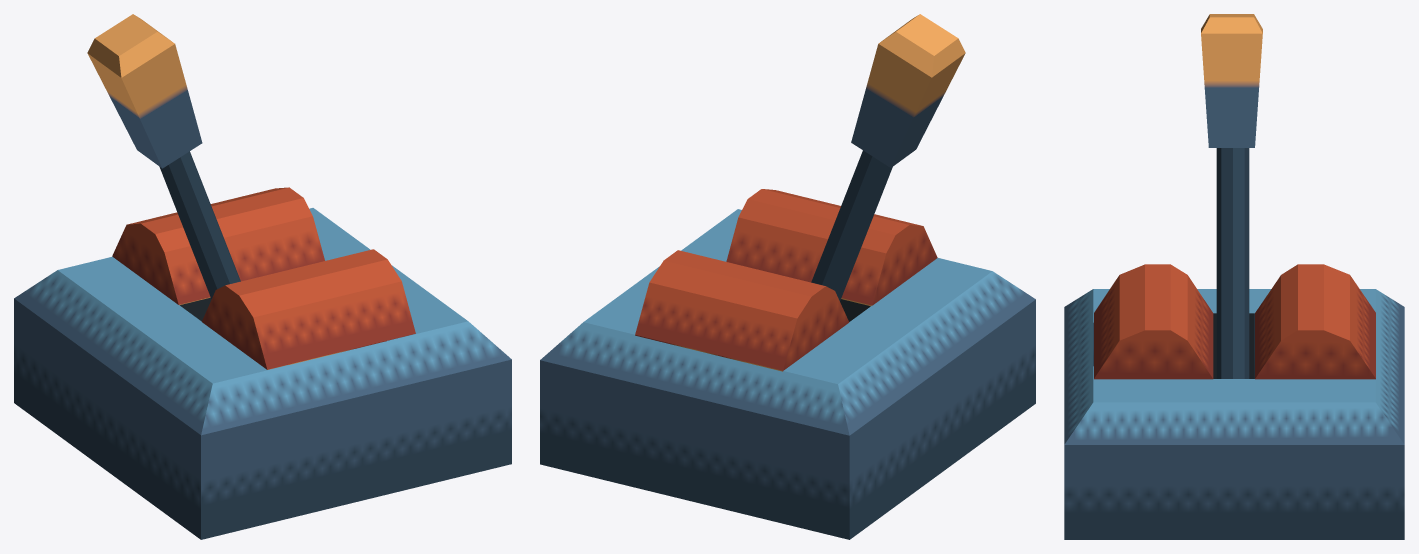
The model's file is lever_right.fbx.
The picture shows the model from 3 angles, left to right: view 1: azimuth 30°, elevation 25°; view 2: azimuth 150°, elevation 25°; view 3: azimuth 270°, elevation 25°; orthographic projection. The views are drawn at different scales.
Visible parts, largest first — view 1: base, lever; view 2: base, lever; view 3: base, lever.
Boxes of the visible parts, x1,y1,x2,y2 form: base: [14, 187, 511, 539]; lever: [87, 14, 240, 298]; base: [540, 189, 1035, 539]; lever: [811, 14, 965, 300]; base: [1064, 264, 1404, 539]; lever: [1201, 14, 1262, 378].
Bounding box in the file's own units: 2.85 × 3.81 × 2.93.
2 materials, 2 textured.
